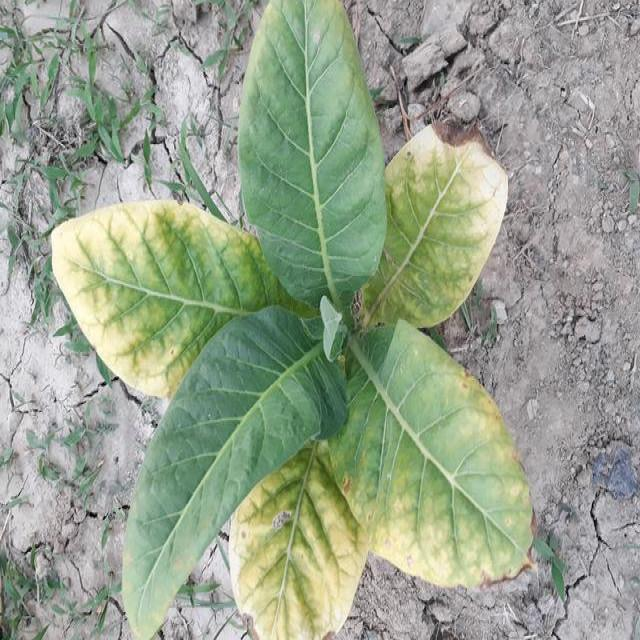crop: (49, 0, 543, 634)
